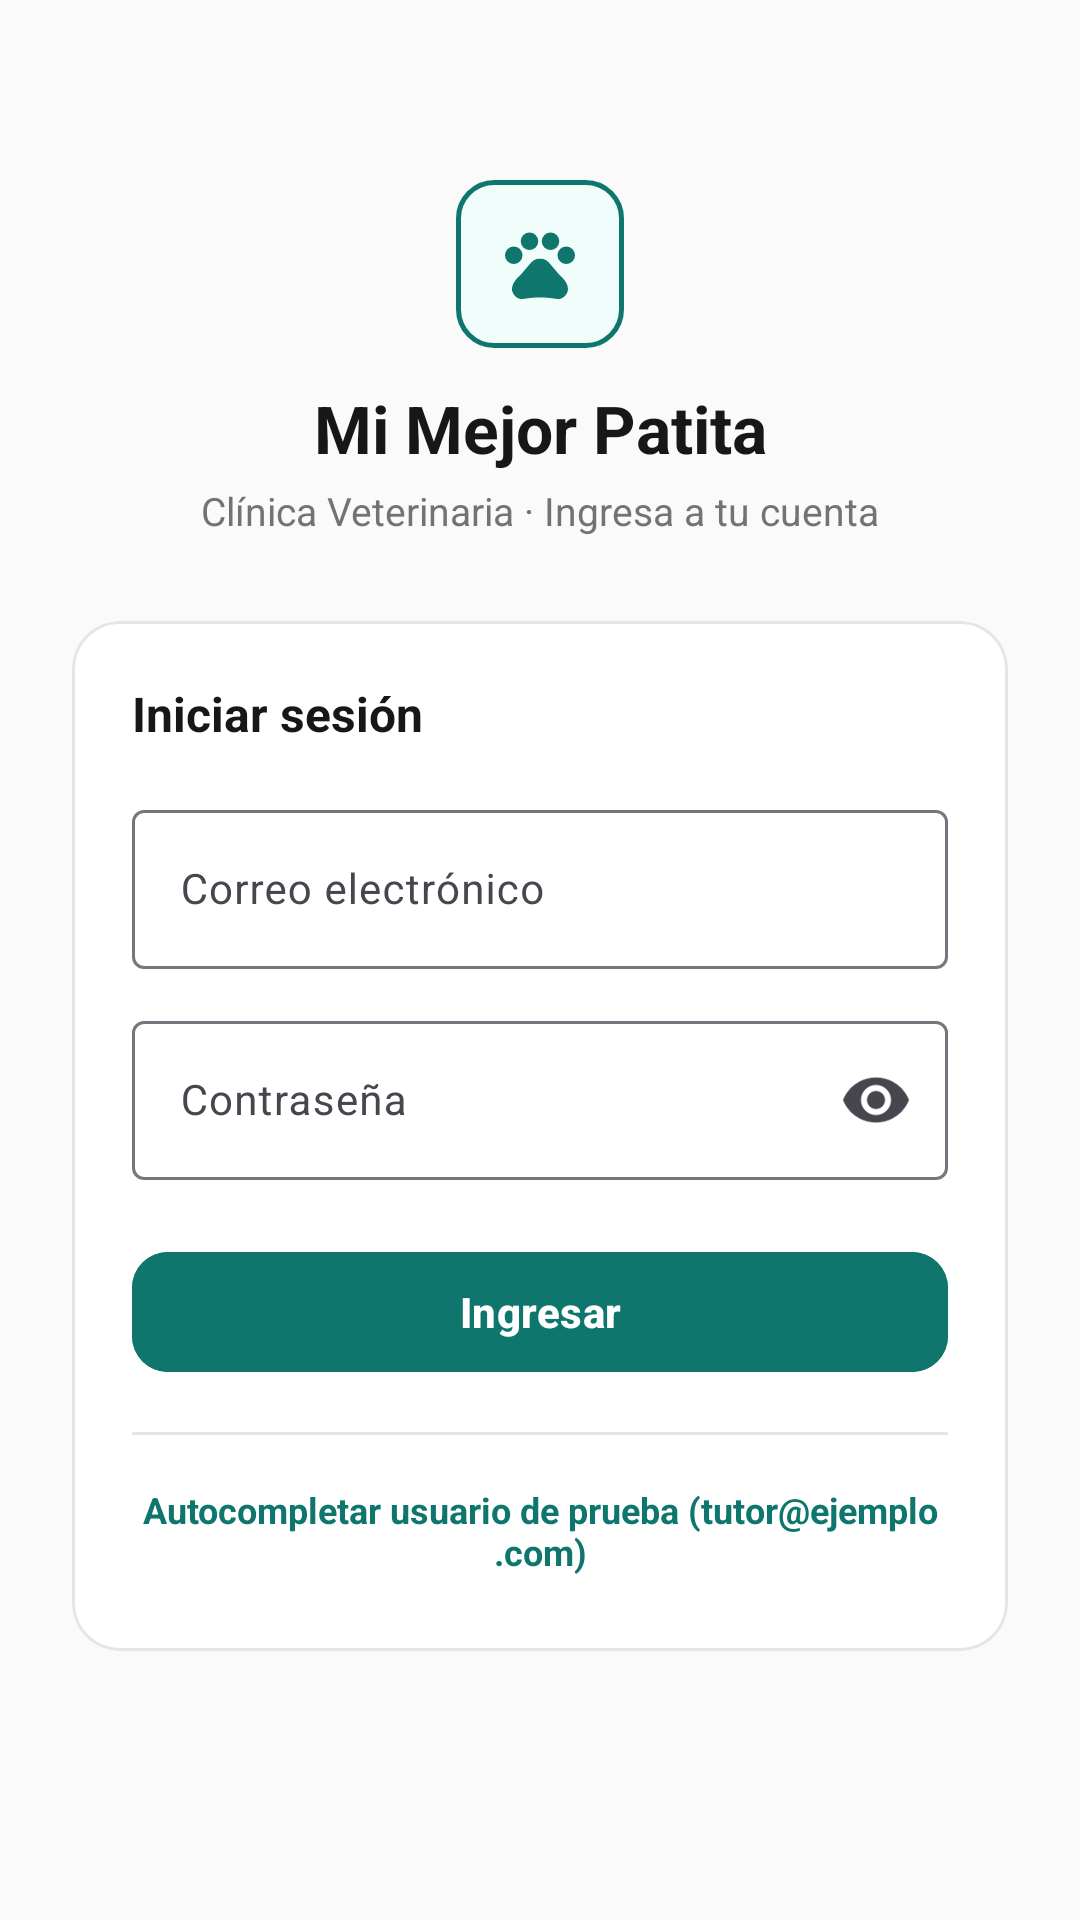

Icon click points for this 1080×1920 phone screenshot, format point (x, y):
paw: point (540, 264)
